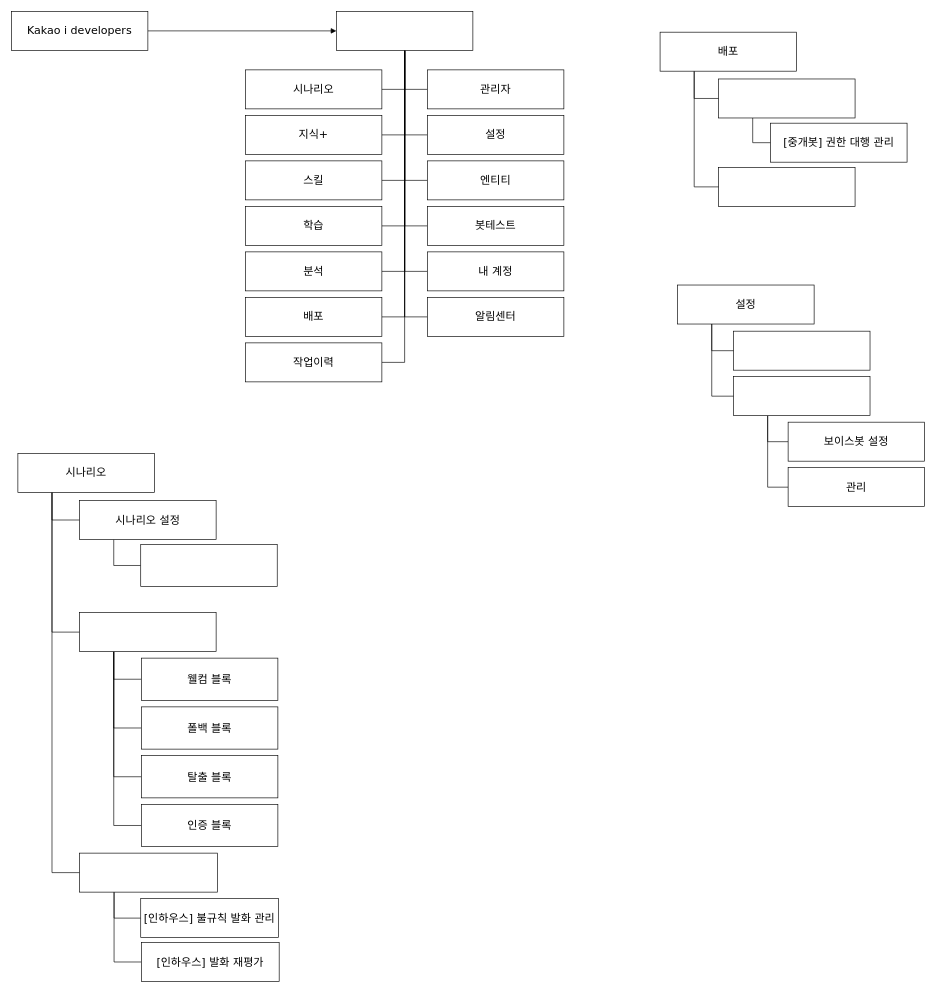
This 936x993 diagram has some shape labels left out. Each missing label, with the centre of its shape:
"[보이스봇] 설정" goes at point (801, 396).
"[보이스봇] 심사/배포" goes at point (786, 186).
"[챗봇] 배포" goes at point (786, 98).
"[챗봇] 설정" goes at point (801, 350).
"Kakao i open builder" goes at point (404, 30).
"기본 시나리오" goes at point (147, 632).
"봇 제네릭 메뉴" goes at point (208, 565).
"인텐트" goes at point (148, 872).
